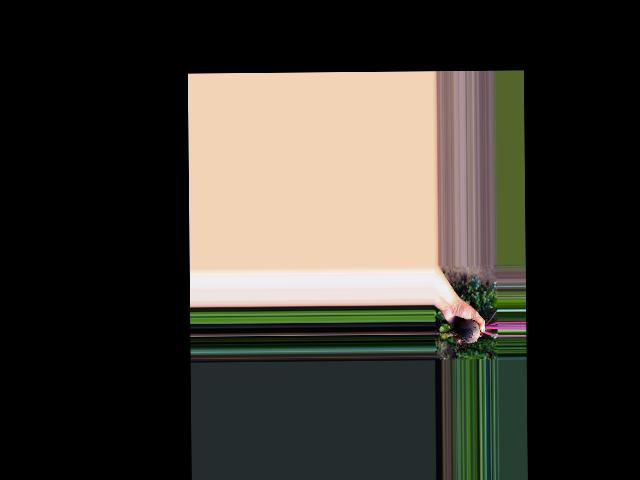beet: (433, 309, 497, 353)
